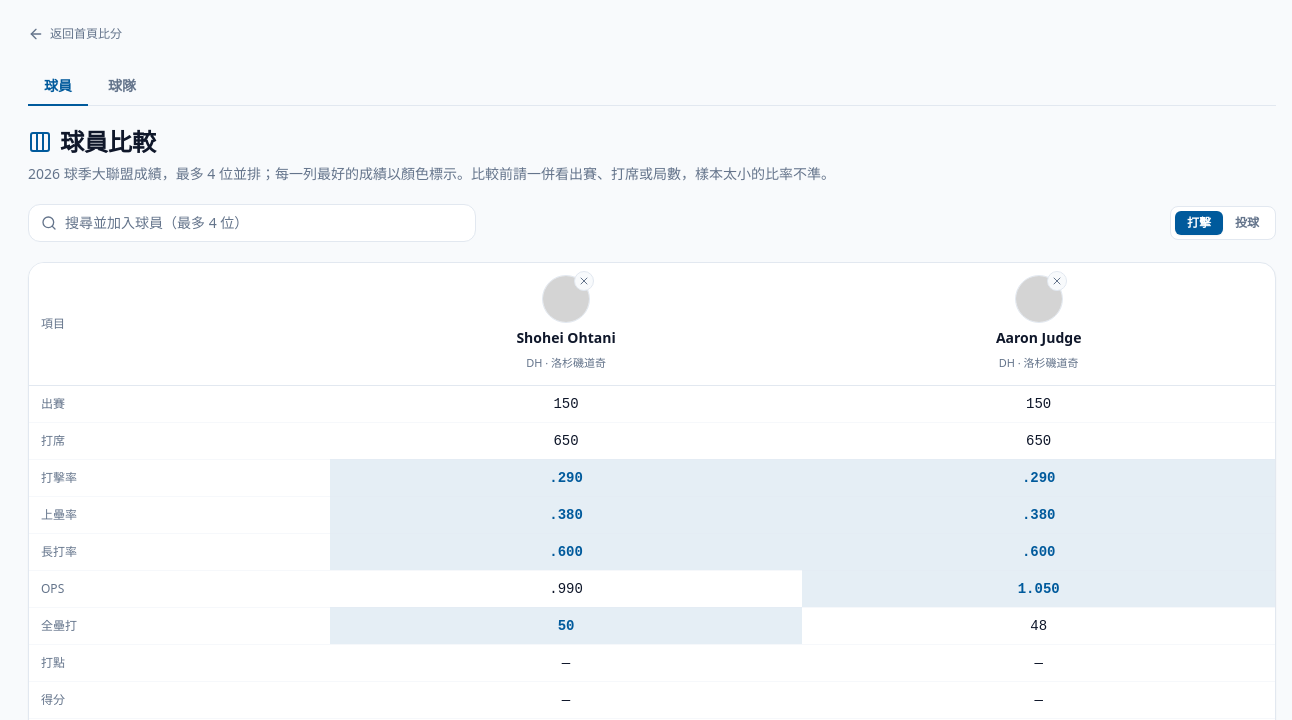
Test: ComparePage › switches to pitching, where hitters have no line
Expected: the link "Shohei Ohtani" is shown, [516, 329, 616, 346]
What coordinates should you click on to do the following:
click the button "投球"
I would click on:
 (1247, 223)
Its box is [1223, 211, 1271, 235].
(page scrolled)
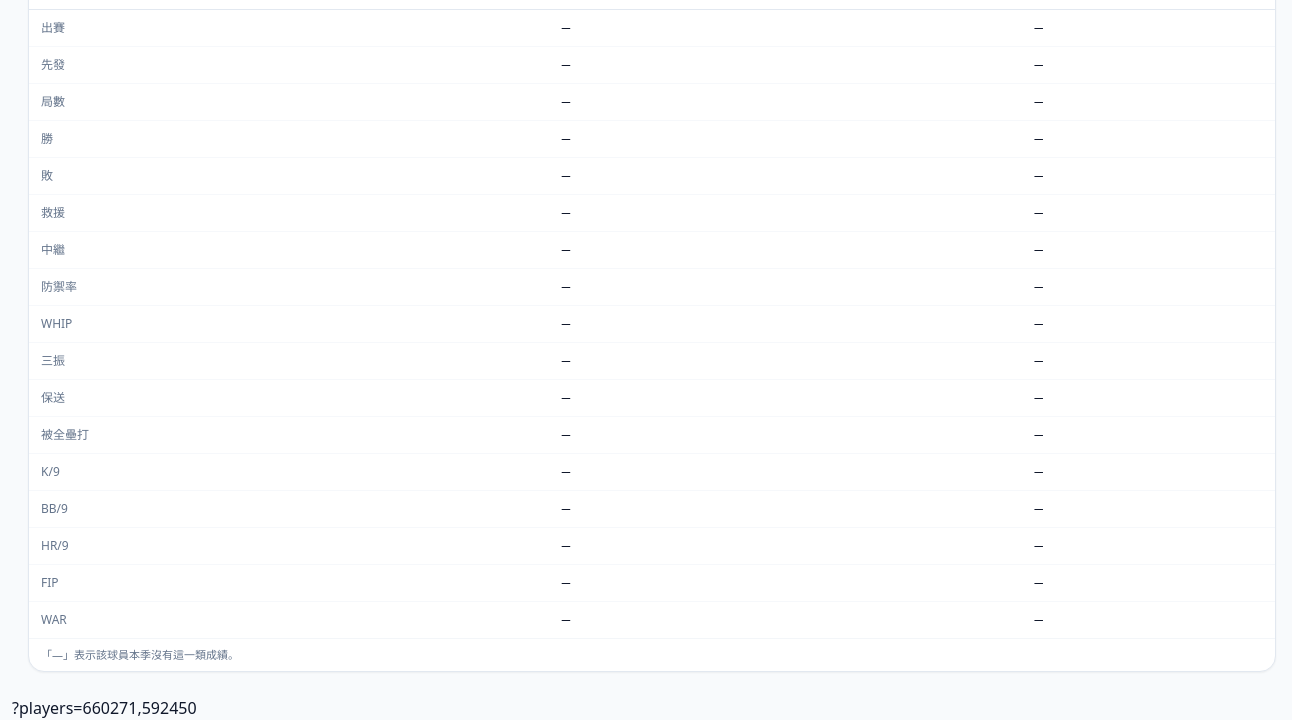
Expected: the text "—" is shown, [330, 268, 802, 305]
Result: the text "「—」表示該球員本季沒有這一類成績。" is shown at [29, 638, 1275, 671]
